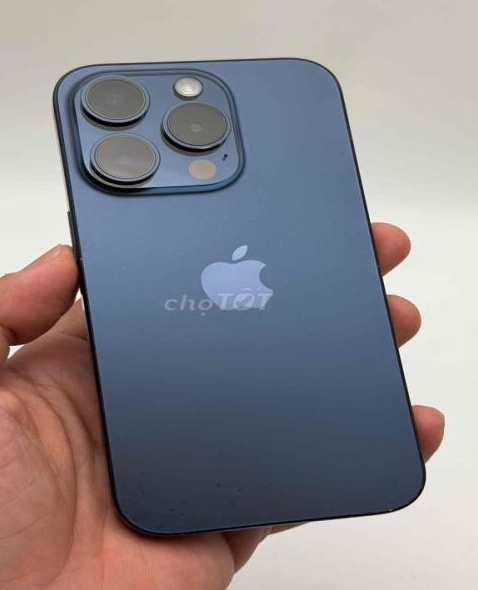screen_defect: (103, 465, 432, 527)
